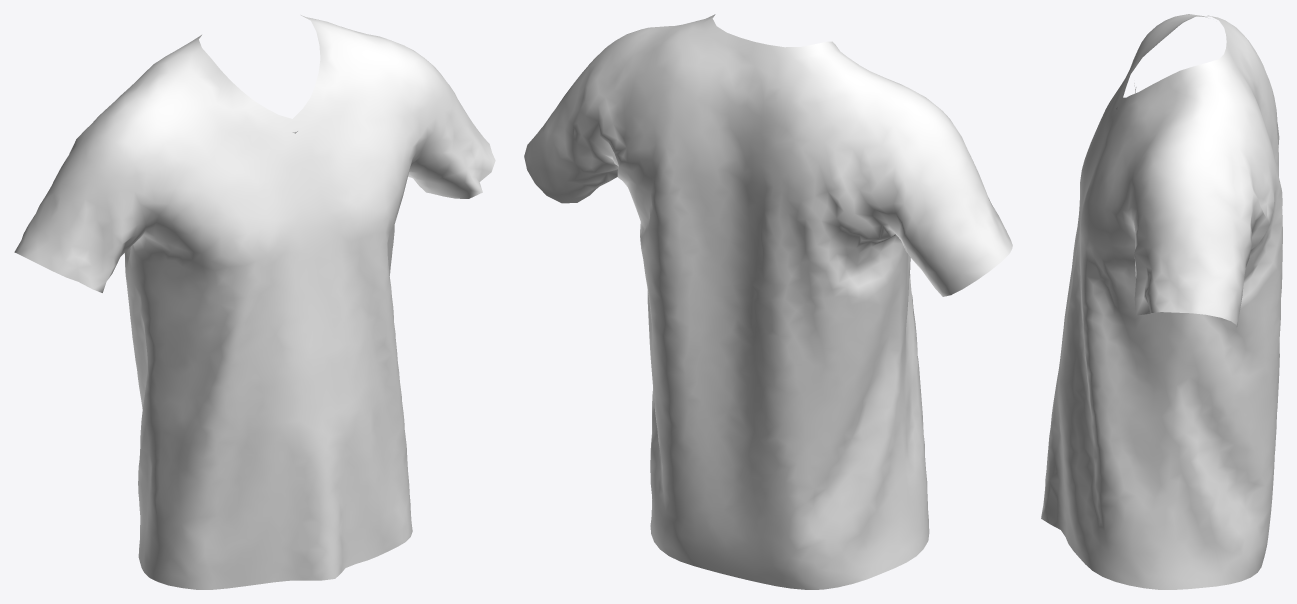
3 renders of one model, left to right at view 1: azimuth 30°, elevation 25°; view 2: azimuth 150°, elevation 25°; view 3: azimuth 270°, elevation 25°, orthographic. The views are drawn at different scales.
Visible parts, largest first — view 1: Node; view 2: Node; view 3: Node.
Part boxes in pixels (<box>): Node: <box>14,15,495,589</box>; Node: <box>524,14,1012,589</box>; Node: <box>1041,14,1282,589</box>.
Bounding box in the file's own units: 663 × 700 × 305.
1 material, 1 textured.
